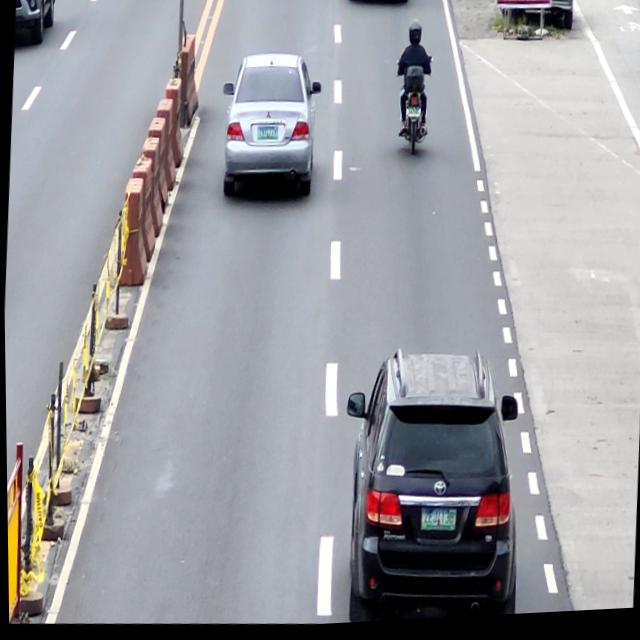Car: (336, 348, 528, 626), (216, 51, 324, 211)
License-Plate: (419, 509, 456, 538), (256, 127, 279, 144), (405, 110, 423, 123)
Motorcycle: (391, 55, 434, 161)
